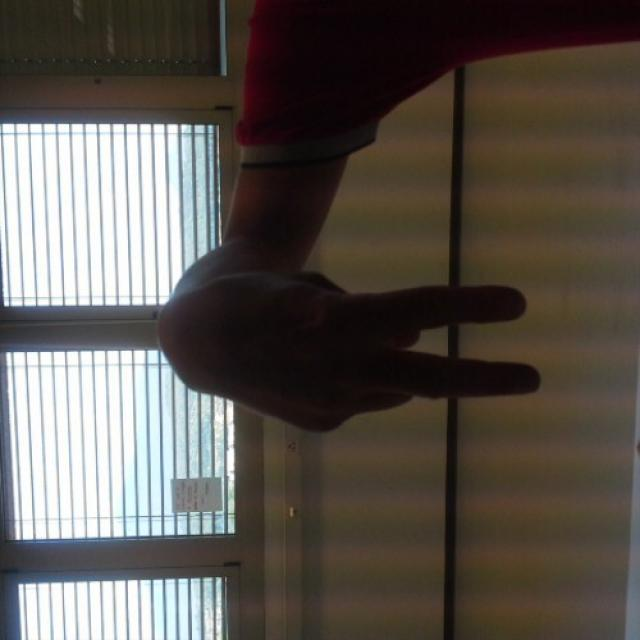scissors: (170, 273, 548, 432)
